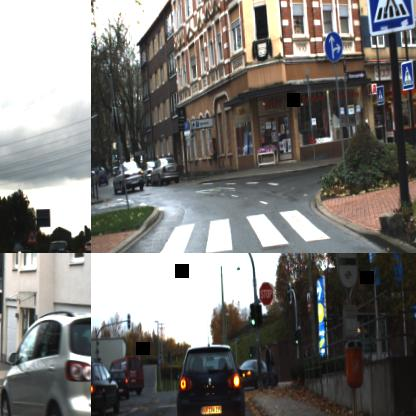SNOW: (26, 226, 38, 244)
STOP: (258, 281, 274, 306)
go right: (324, 31, 344, 63)
